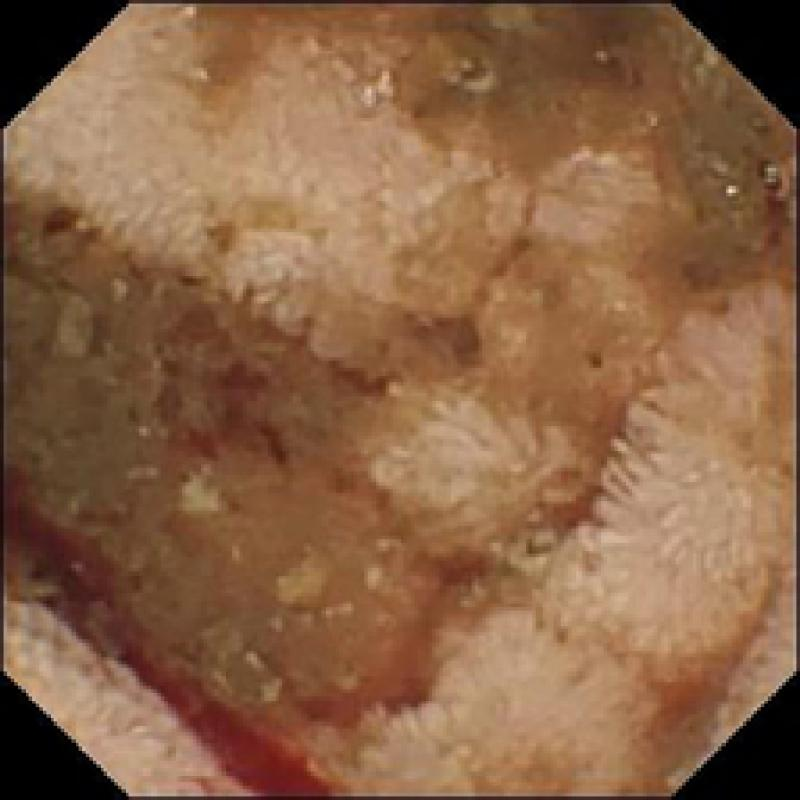bleeding: (3, 514, 346, 796)
